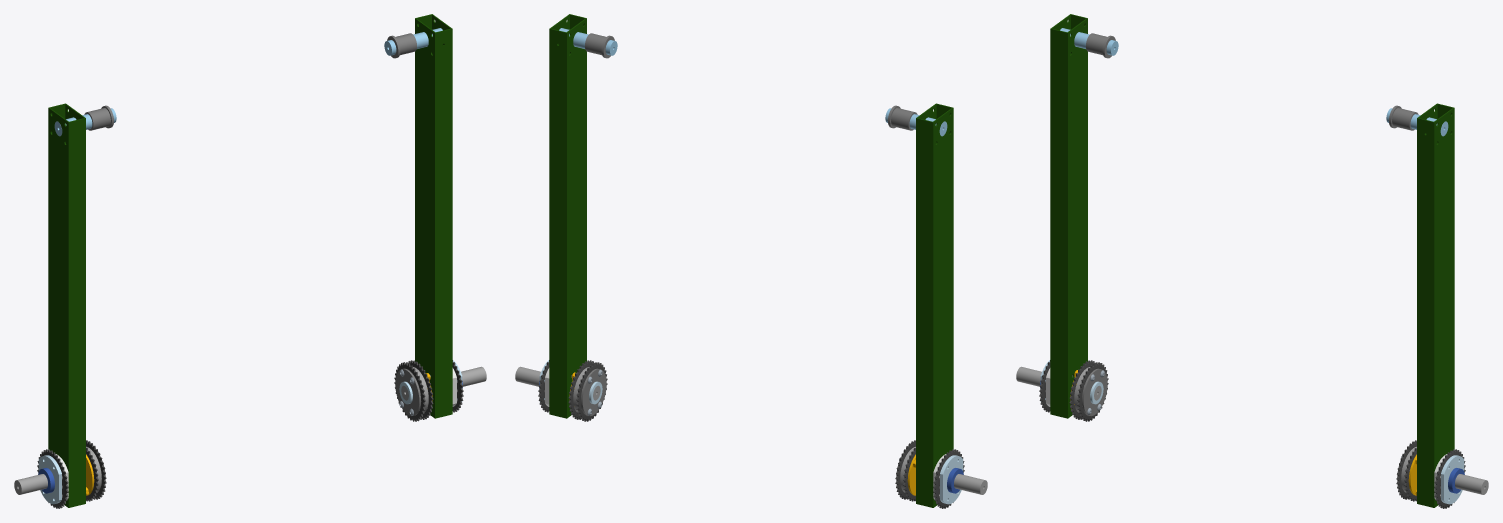
3 views of the same model, side by side, from view 1: azimuth 30°, elevation 25°; view 2: azimuth 150°, elevation 25°; view 3: azimuth 330°, elevation 25° (orthographic).
Visible parts, largest first — view 1: A-DJ-RF Box, A-DJ-LF Box, A-DJ-LF Bushing Plate, A-DJ-RDD Inside Sprocket Adapter; view 2: A-DJ-RF Box, A-DJ-LF Box, A-DJ-LF Bushing Plate, A-DJ-RDD Inside Sprocket Adapter; view 3: A-DJ-LF Box, A-DJ-RF Box, A-DJ-RF Bushing Plate, A-DJ-LDD Inside Sprocker Adapter.
Boxes of the visible parts, bbox=[...] form: A-DJ-RF Box: bbox=[415, 14, 452, 418]; A-DJ-LF Box: bbox=[48, 103, 85, 507]; A-DJ-LF Bushing Plate: bbox=[38, 455, 61, 504]; A-DJ-RDD Inside Sprocket Adapter: bbox=[395, 368, 421, 416]; A-DJ-RF Box: bbox=[549, 14, 586, 418]; A-DJ-LF Box: bbox=[916, 103, 953, 507]; A-DJ-LF Bushing Plate: bbox=[940, 455, 963, 504]; A-DJ-RDD Inside Sprocket Adapter: bbox=[580, 368, 606, 416]; A-DJ-LF Box: bbox=[1050, 14, 1087, 418]; A-DJ-RF Box: bbox=[1417, 103, 1454, 507]; A-DJ-RF Bushing Plate: bbox=[1441, 455, 1464, 504]; A-DJ-LDD Inside Sprocker Adapter: bbox=[1082, 368, 1107, 416].
Bounding box in the file's own units: 0.6731 × 0.5398 × 0.0763.
